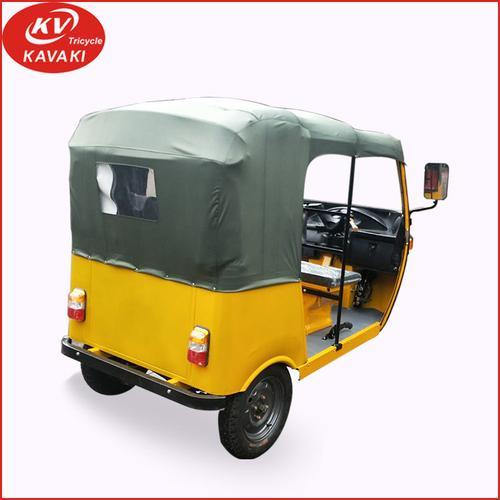empty: (21, 87, 459, 458)
